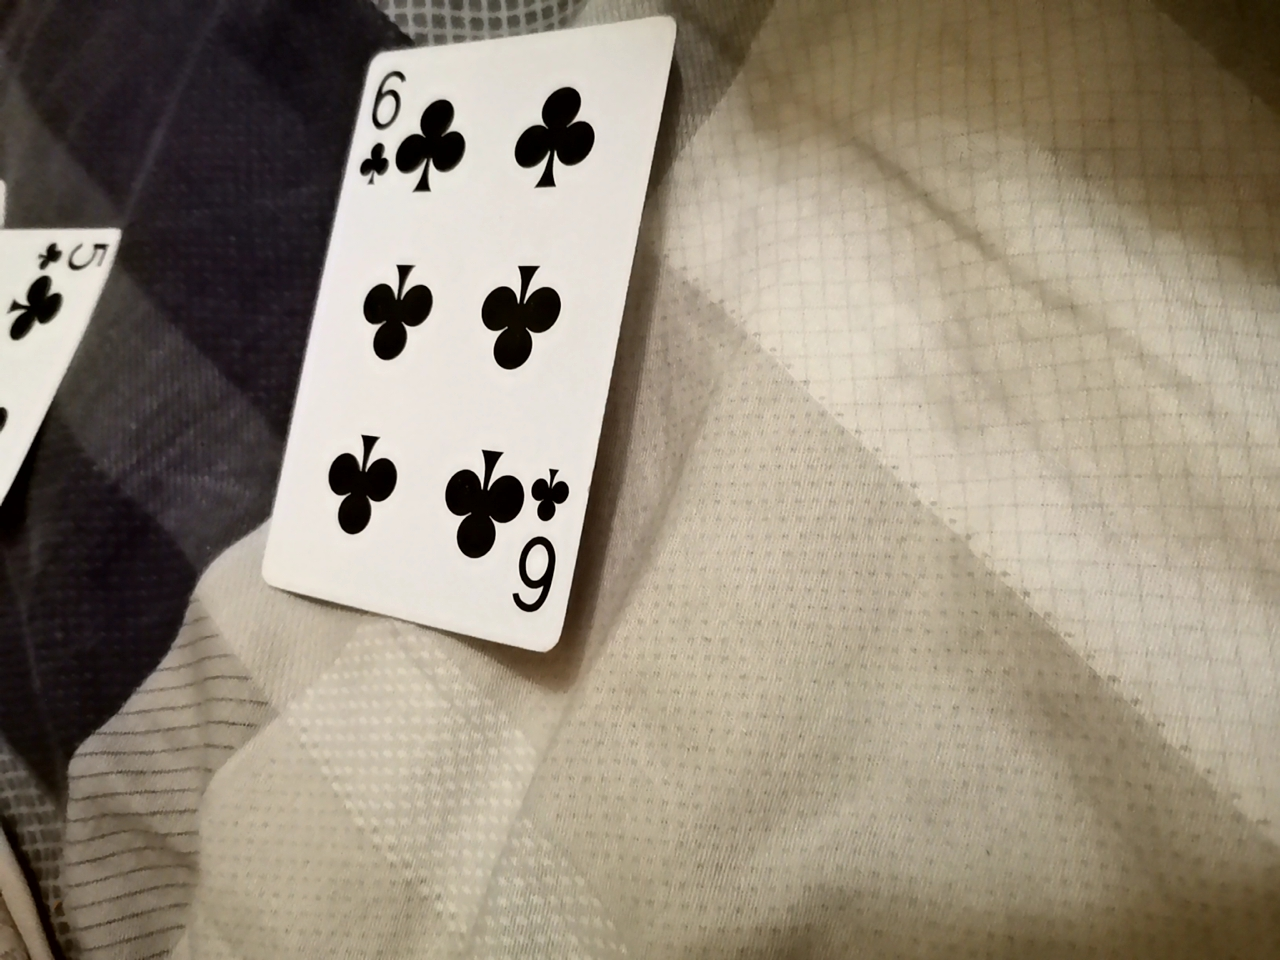mh 6: (235, 17, 681, 661)
